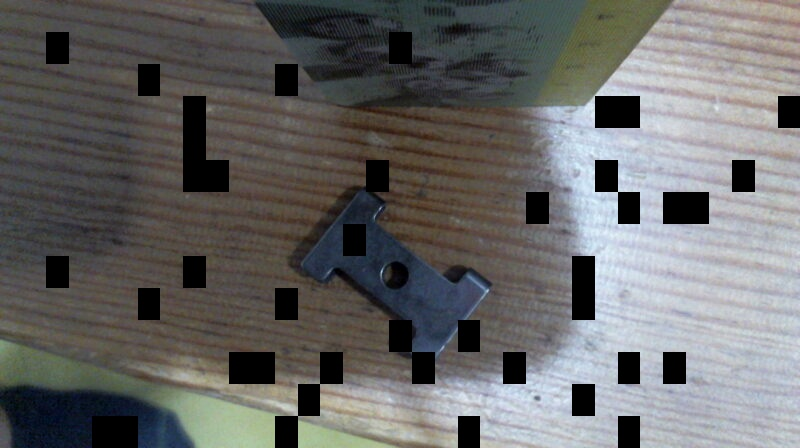O002: (298, 183, 496, 367)
